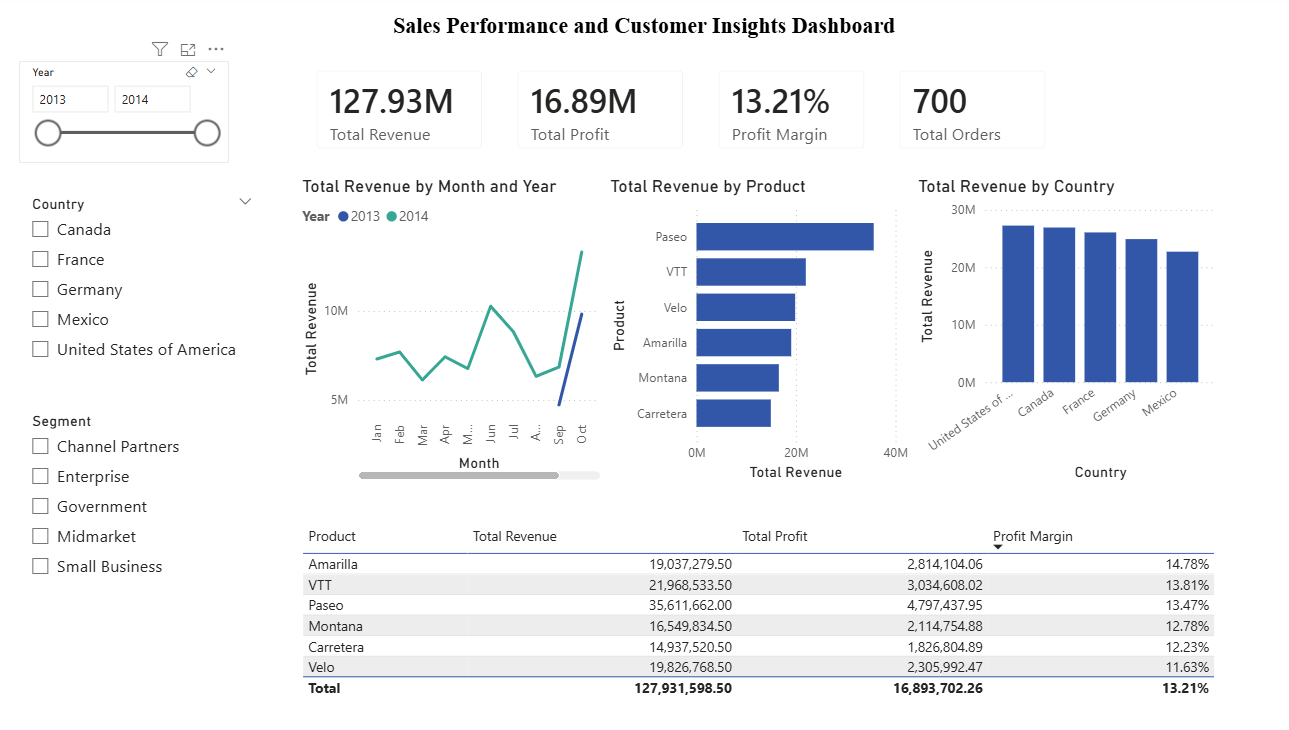

The dashboard page shown, as its layout file describes it:
{"tool":"powerbi","page":{"name":"Page 1","canvas":[1280,720],"ordinal":0},"visuals":[{"type":"cardVisual","fields":{"Data":["financials.Total Revenue"]},"box":[293.7,55.4,195.5,110.9],"z":0},{"type":"cardVisual","fields":{"Data":["financials.Total Profit"]},"box":[489.2,55.4,195.5,110.9],"z":1000},{"type":"cardVisual","fields":{"Data":["financials.Profit Margin"]},"box":[684.7,55.4,176,110.9],"z":2000},{"type":"cardVisual","fields":{"Data":["financials.Total Orders"]},"box":[860.8,55.4,176,110.9],"z":3000},{"type":"lineChart","fields":{"Category":["DateTable.Month"],"Y":["financials.Total Revenue"],"Series":["DateTable.Year"]},"box":[291.8,175.1,299.6,300.5],"z":3001},{"type":"clusteredBarChart","fields":{"Category":["financials.Product"],"Y":["financials.Total Revenue"]},"box":[591.4,175.1,299.6,300.5],"z":3003},{"type":"clusteredColumnChart","fields":{"Category":["financials.Country"],"Y":["financials.Total Revenue"]},"box":[890.9,175.1,299.6,300.5],"z":3004},{"type":"tableEx","fields":{"Values":["financials.Product","financials.Total Revenue","financials.Total Profit","financials.Profit Margin"]},"box":[291.8,509.7,898.7,196.5],"z":3005},{"type":"slicer","fields":{"Values":["DateTable.Year"]},"box":[21.4,63.2,204.3,99.2],"z":3006},{"type":"slicer","fields":{"Values":["financials.Country"]},"box":[21.4,188.7,239.3,179],"z":3007},{"type":"slicer","fields":{"Values":["financials.Segment"]},"box":[21.4,399.8,227.6,195.5],"z":3008},{"type":"textbox","box":[380.3,11.7,519.4,51.6],"z":3009}]}

Visuals, with their boxes in screenshot pixels (x1, y1, x2, y2), scaled from the page's 1280x720 canvas onto the 1289x730 screenshot:
cardVisual - financials.Total Revenue: <region>296, 56, 493, 169</region>
cardVisual - financials.Total Profit: <region>493, 56, 690, 169</region>
cardVisual - financials.Profit Margin: <region>690, 56, 867, 169</region>
cardVisual - financials.Total Orders: <region>867, 56, 1044, 169</region>
lineChart - DateTable.Month x financials.Total Revenue: <region>294, 178, 596, 482</region>
clusteredBarChart - financials.Product x financials.Total Revenue: <region>596, 178, 897, 482</region>
clusteredColumnChart - financials.Country x financials.Total Revenue: <region>897, 178, 1199, 482</region>
tableEx - financials.Product x financials.Total Revenue: <region>294, 517, 1199, 716</region>
slicer - DateTable.Year: <region>22, 64, 227, 165</region>
slicer - financials.Country: <region>22, 191, 263, 373</region>
slicer - financials.Segment: <region>22, 405, 251, 604</region>
textbox: <region>383, 12, 906, 64</region>
